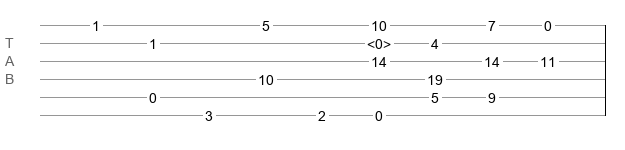0: (149, 90, 157, 100), (375, 108, 383, 118), (544, 18, 552, 28)
1: (92, 18, 100, 28), (149, 36, 157, 46)
10: (258, 72, 274, 82), (371, 18, 387, 28)
11: (540, 54, 556, 64)
14: (371, 54, 387, 64), (484, 54, 500, 64)
19: (427, 72, 443, 82)
2: (318, 108, 326, 118)
3: (205, 108, 213, 118)
4: (431, 36, 439, 46)
5: (262, 18, 270, 28), (431, 90, 439, 100)
7: (488, 18, 496, 28)
9: (488, 90, 496, 100)
harmonic: (367, 36, 391, 46)
